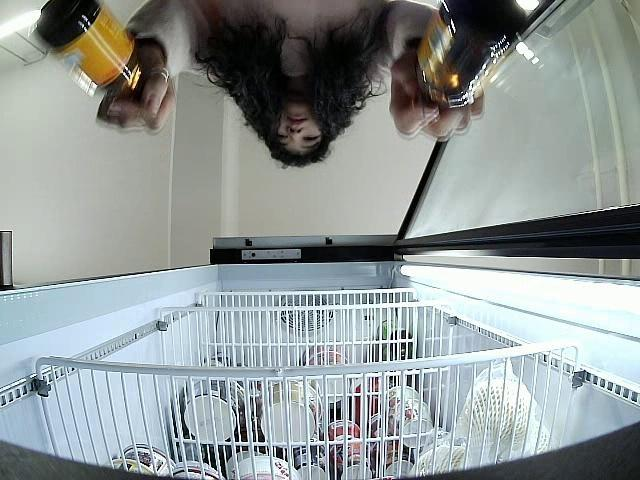17_vita500: (412, 0, 528, 115), (29, 0, 148, 107)
